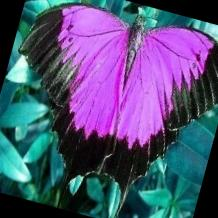butterfly: (20, 4, 218, 194)
